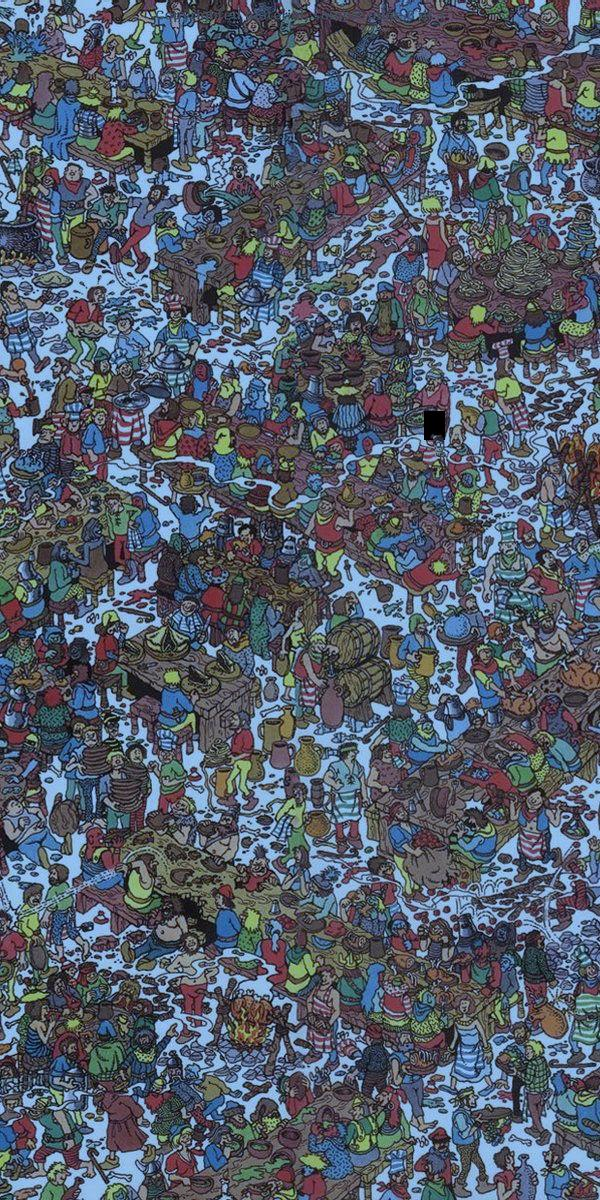waldos: (429, 428, 450, 457)
